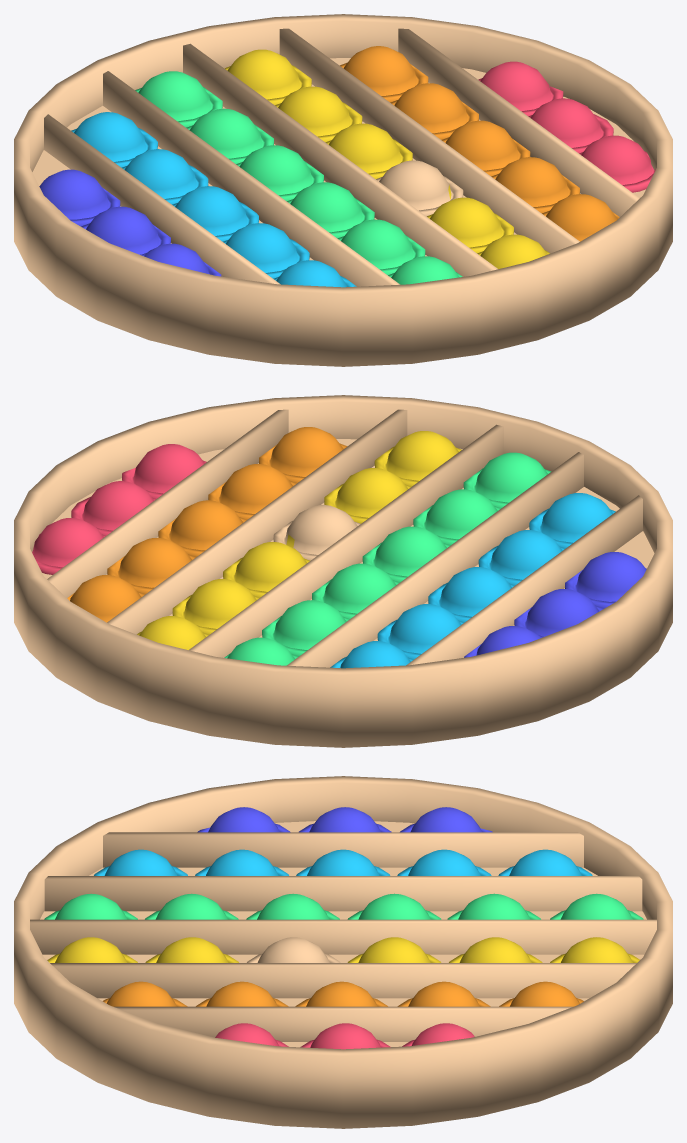
File: ToyObject_161.fbx
The picture shows the model from 3 angles, top to bottom: view 1: azimuth 30°, elevation 25°; view 2: azimuth 150°, elevation 25°; view 3: azimuth 270°, elevation 25°; orthographic projection.
Visible parts, largest first — view 1: Object.033; view 2: Object.033; view 3: Object.033.
Part boxes in pixels (x1,y1,x2,y2): Object.033: [14, 14, 672, 366]; Object.033: [14, 395, 672, 747]; Object.033: [14, 776, 672, 1128].
Size of the model in its own units: 0.1415 by 0.0172 by 0.1408.
